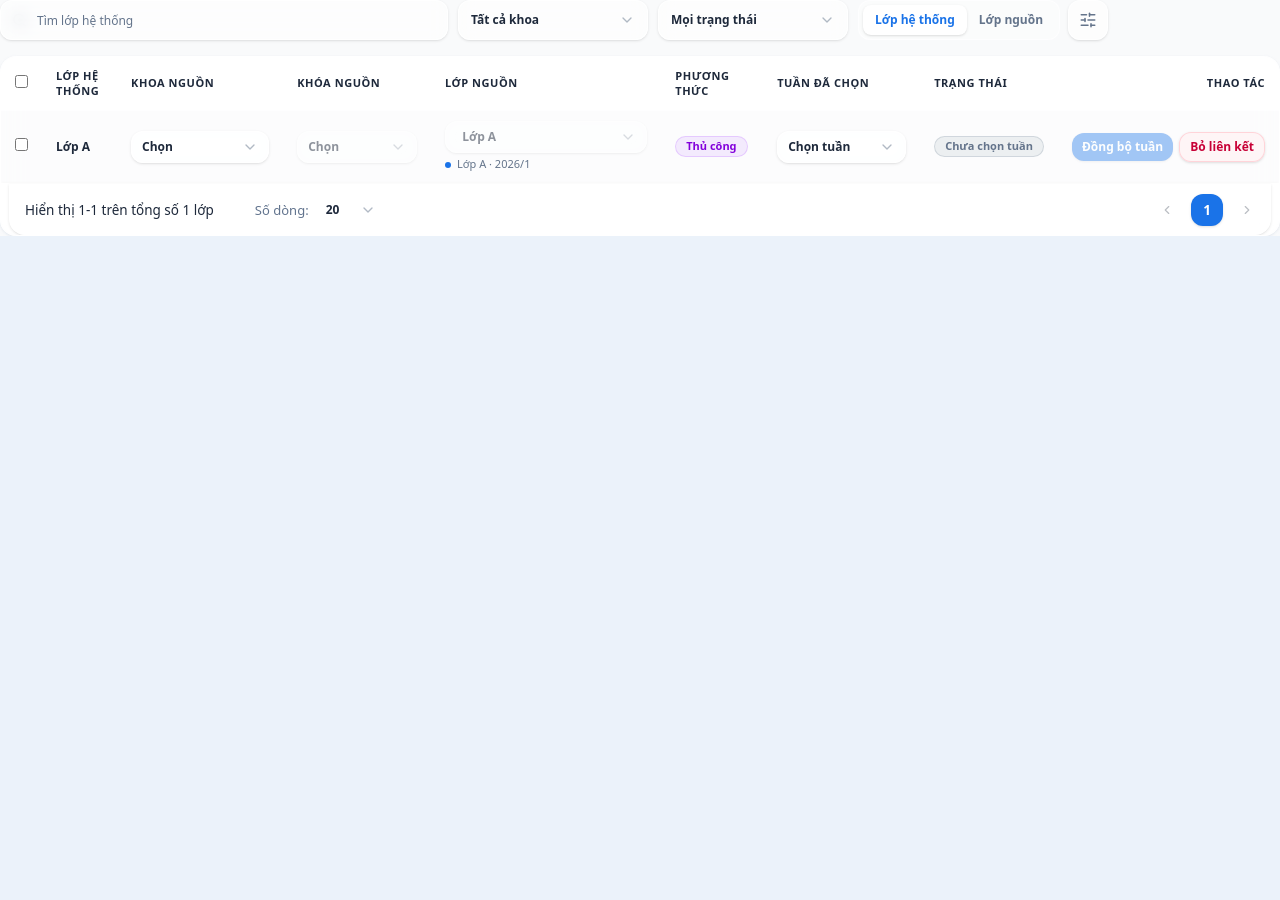
it: TimetableSyncPanel › keeps the row badge failed when single-week polling returns a terminal failure
Click the dropdown named "Tuần cho Lớp A" at (830, 147), box [788, 139, 871, 155]
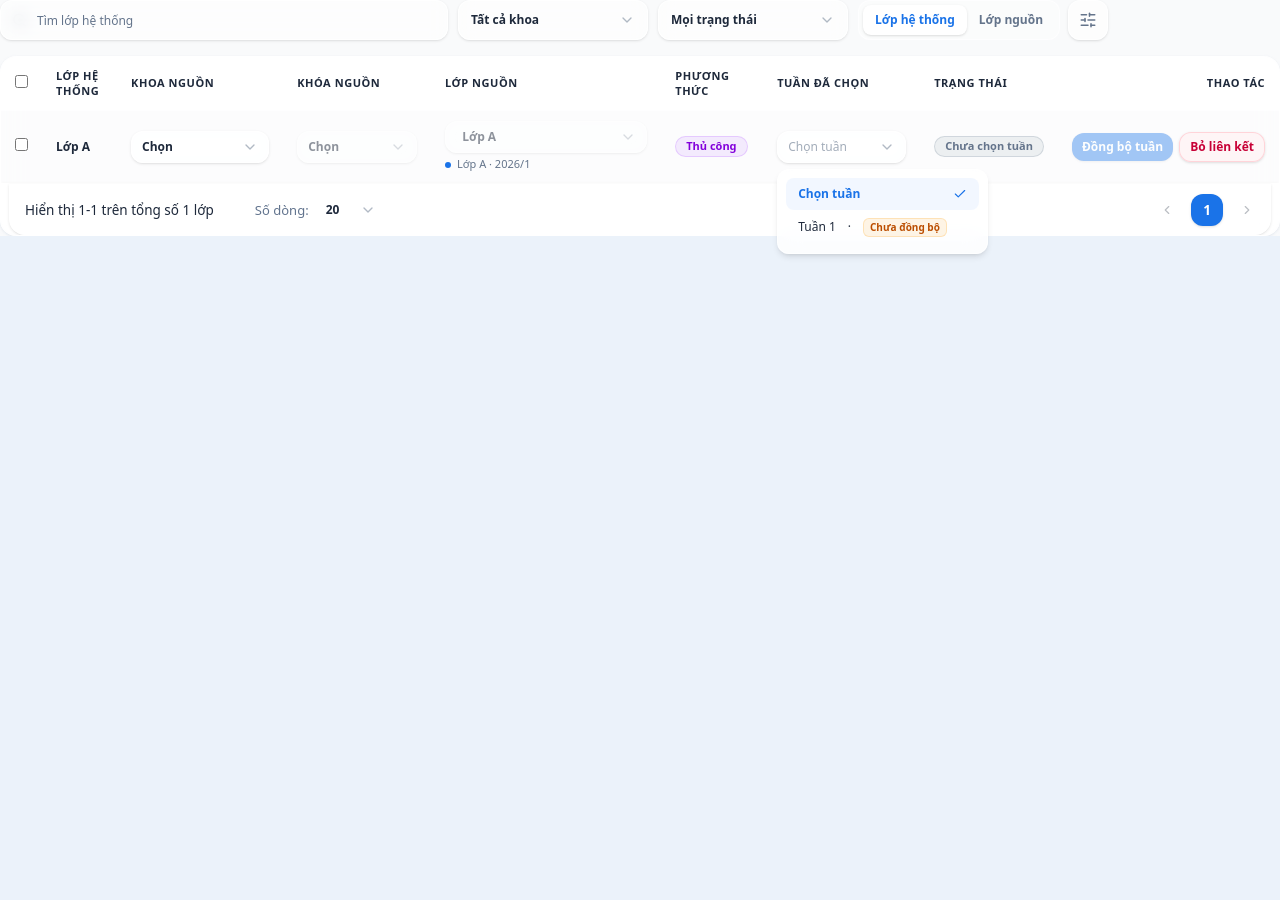
Click the option "Tuần 1 · Chưa đồng bộ" at (873, 227), box [798, 218, 947, 237]
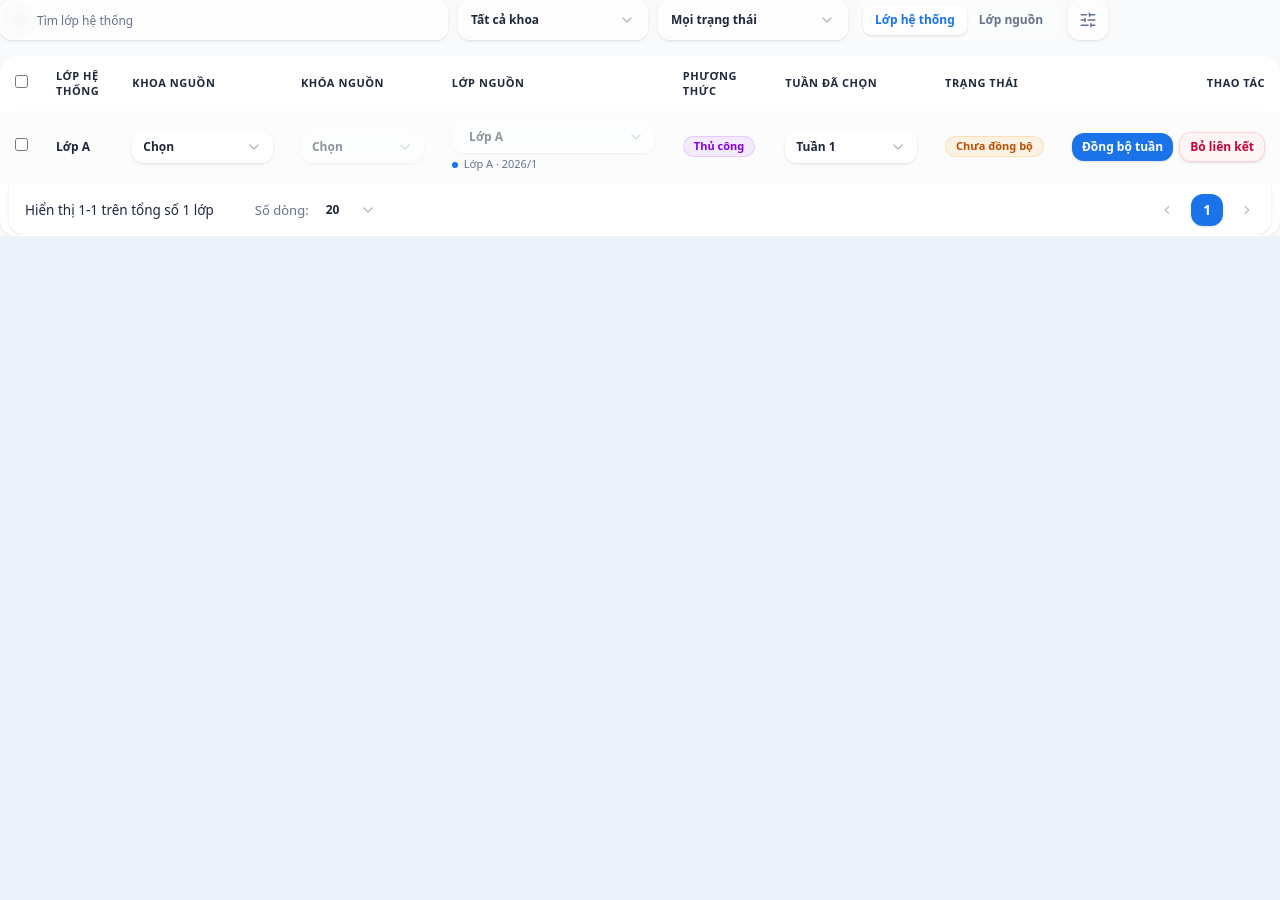
Click the button "Đồng bộ tuần" at (1123, 147), box [1072, 133, 1173, 161]
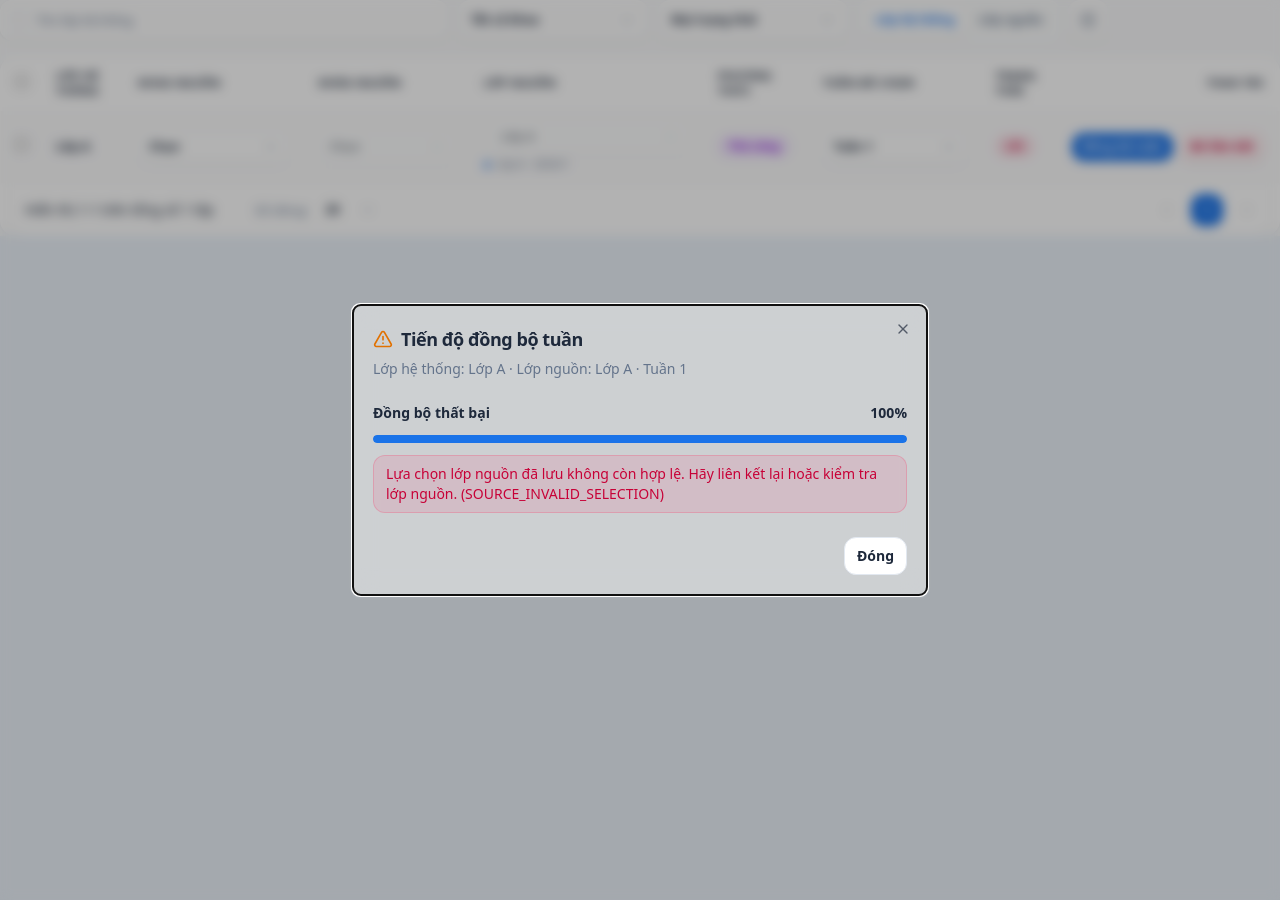
Expected: the text "Đồng bộ thất bại" is shown, [373, 403, 490, 423]
Expected: the text "Lớp hệ thống: Lớp A · Lớp nguồn: Lớp A · Tuần 1" is shown, [373, 359, 687, 378]
Expected: the message shows "Lựa chọn lớp nguồn đã lưu không còn hợp lệ", [386, 464, 877, 503]
